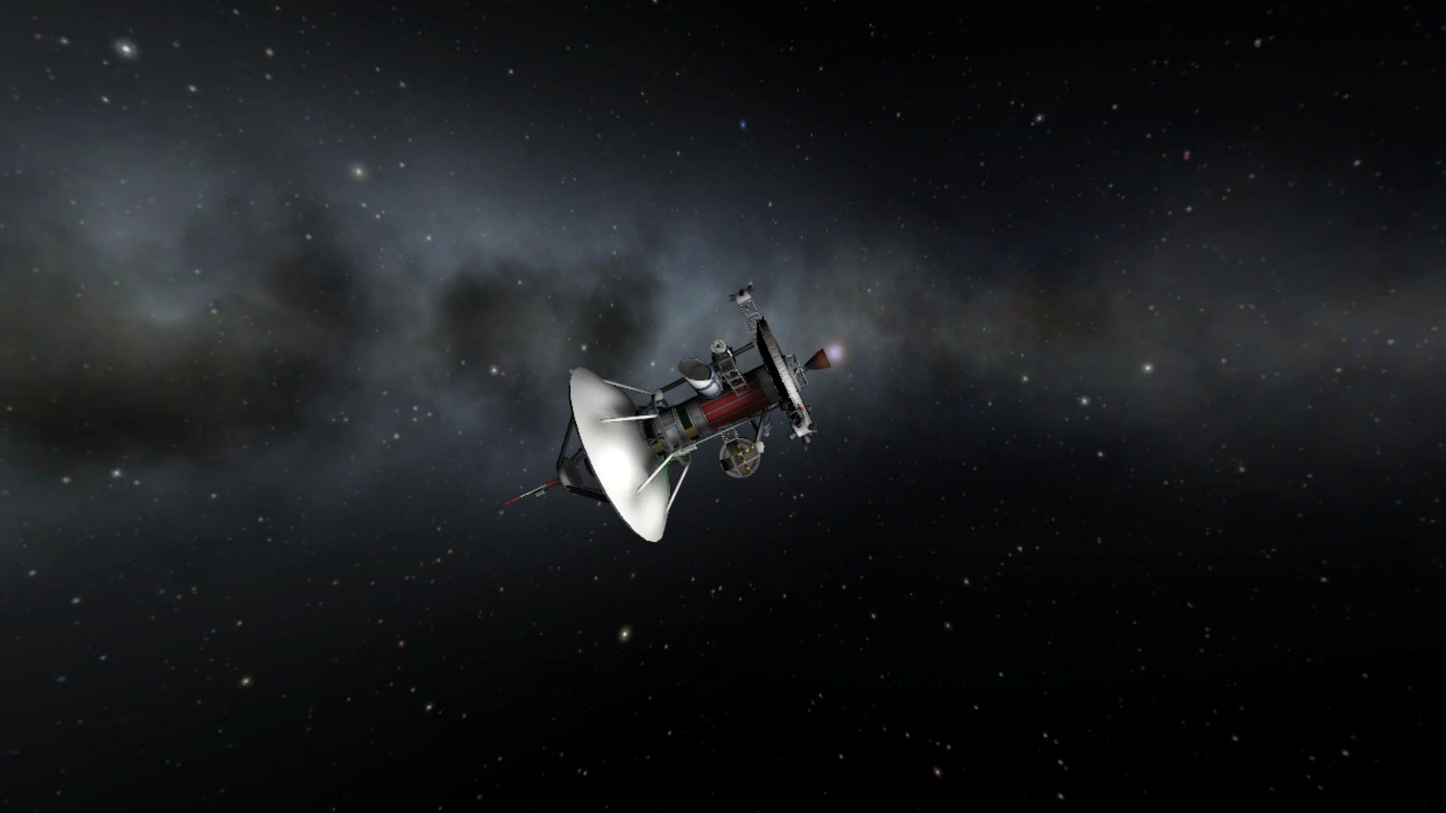antenna: (501, 364, 672, 545), (718, 437, 762, 480)
body: (652, 354, 800, 457)
thruster: (804, 347, 834, 371), (807, 420, 821, 432), (786, 431, 798, 443), (801, 434, 813, 446), (746, 283, 757, 295), (735, 287, 746, 299), (792, 417, 804, 428), (728, 293, 738, 303)
